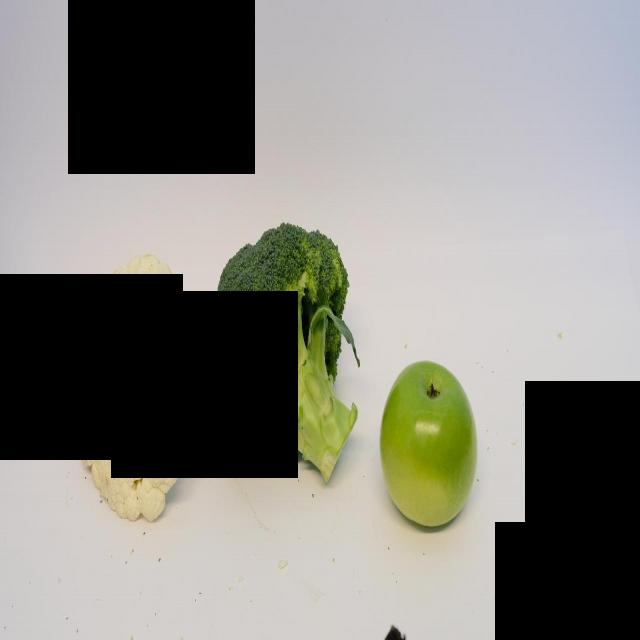apple: (374, 356, 480, 531)
broccoli: (207, 219, 359, 494)
cauliflower: (76, 243, 211, 529)
